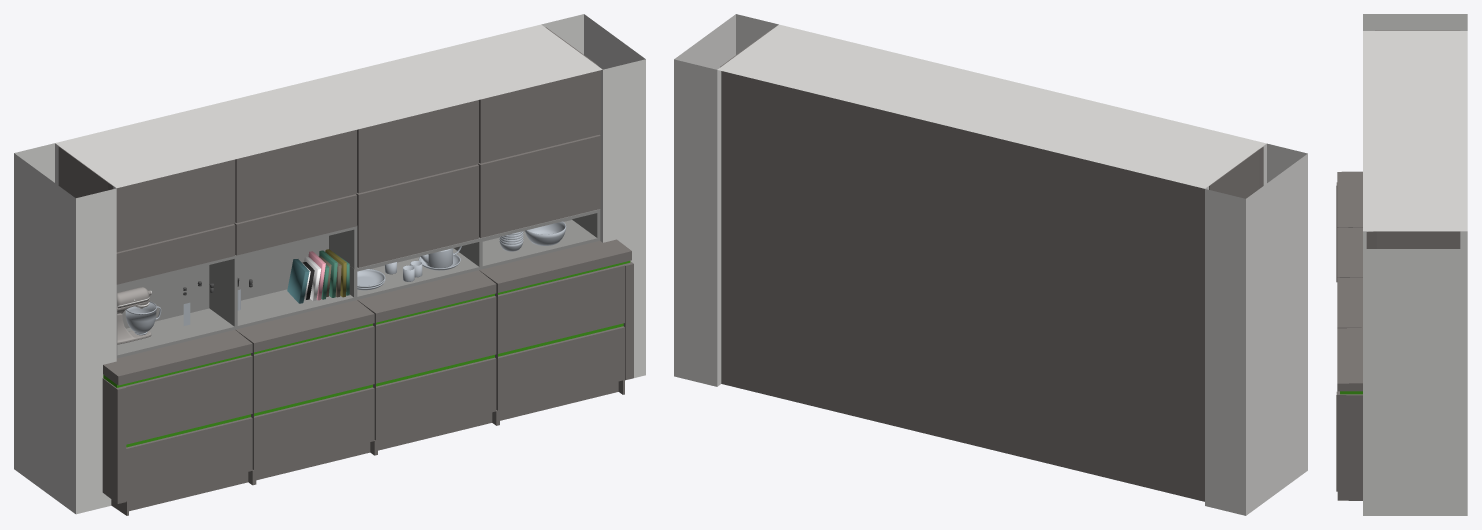
File: kitchen2.fbx
3 views of the same model, side by side, from view 1: azimuth 30°, elevation 25°; view 2: azimuth 150°, elevation 25°; view 3: azimuth 270°, elevation 25° (orthographic). The views are drawn at different scales.
Parts seen in each view (by area): view 1: A23DOBJ_035, A23DOBJ_031, A23DOBJ_030, A23DOBJ_009; view 2: A23DOBJ_035; view 3: A23DOBJ_035.
Boxes of the visible parts, left/top/right/bottom form: A23DOBJ_035: left=14, top=14, right=645, bottom=515; A23DOBJ_031: left=117, top=287, right=151, bottom=344; A23DOBJ_030: left=125, top=301, right=161, bottom=335; A23DOBJ_009: left=525, top=221, right=566, bottom=245; A23DOBJ_035: left=674, top=14, right=1307, bottom=515; A23DOBJ_035: left=1336, top=14, right=1467, bottom=515.
Size of the model in its own units: 427 by 226 by 100.
